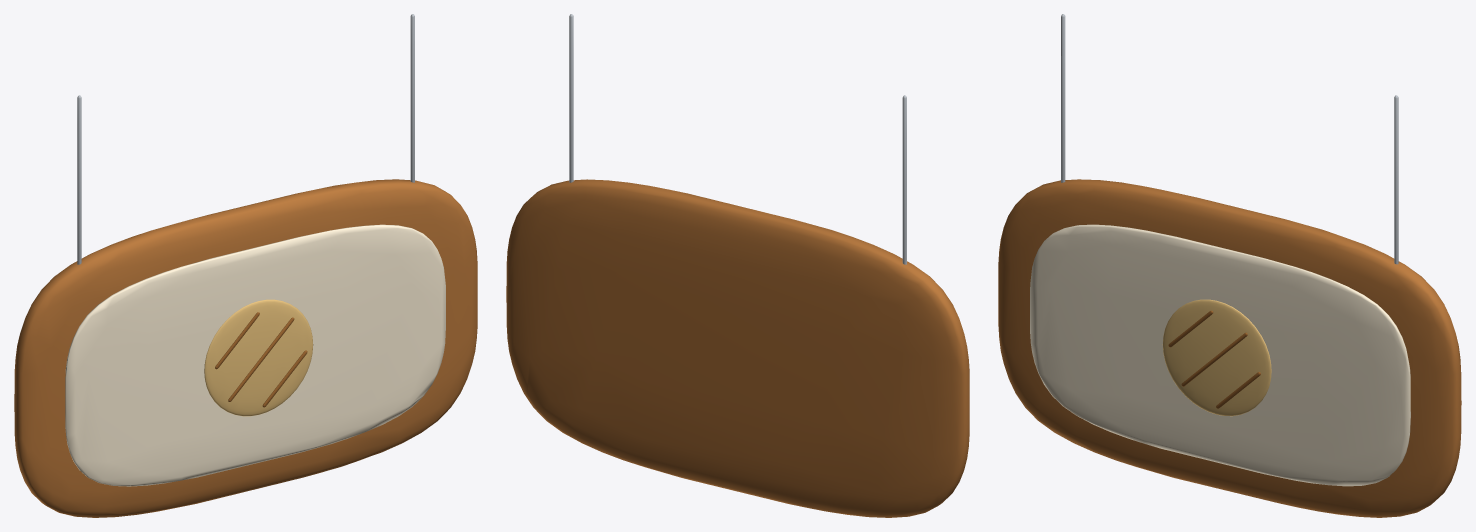
Rendered from letrero_arepas.glb.
3 views of the same model, side by side, from view 1: azimuth 30°, elevation 25°; view 2: azimuth 150°, elevation 25°; view 3: azimuth 330°, elevation 25° (orthographic).
Parts seen in each view (by area): view 1: placa letrero.002, letrero sección.002, arepa.002, cadena letrero.004, cadena letrero.005; view 2: letrero sección.002, cadena letrero.004, cadena letrero.005; view 3: placa letrero.002, letrero sección.002, arepa.002, cadena letrero.005, cadena letrero.004.
Part boxes in pixels (x1=…): placa letrero.002: x1=65, y1=224, x2=445, y2=486; letrero sección.002: x1=14, y1=179, x2=477, y2=517; arepa.002: x1=204, y1=299, x2=313, y2=416; cadena letrero.004: x1=77, y1=95, x2=81, y2=264; cadena letrero.005: x1=410, y1=14, x2=414, y2=182; letrero sección.002: x1=506, y1=179, x2=969, y2=517; cadena letrero.004: x1=902, y1=95, x2=906, y2=264; cadena letrero.005: x1=569, y1=14, x2=573, y2=182; placa letrero.002: x1=1030, y1=224, x2=1410, y2=486; letrero sección.002: x1=998, y1=179, x2=1461, y2=517; arepa.002: x1=1162, y1=299, x2=1271, y2=416; cadena letrero.005: x1=1394, y1=95, x2=1398, y2=264; cadena letrero.004: x1=1061, y1=14, x2=1065, y2=182.
Bounding box in the file's own units: 1.16 × 1.05 × 0.1084.
